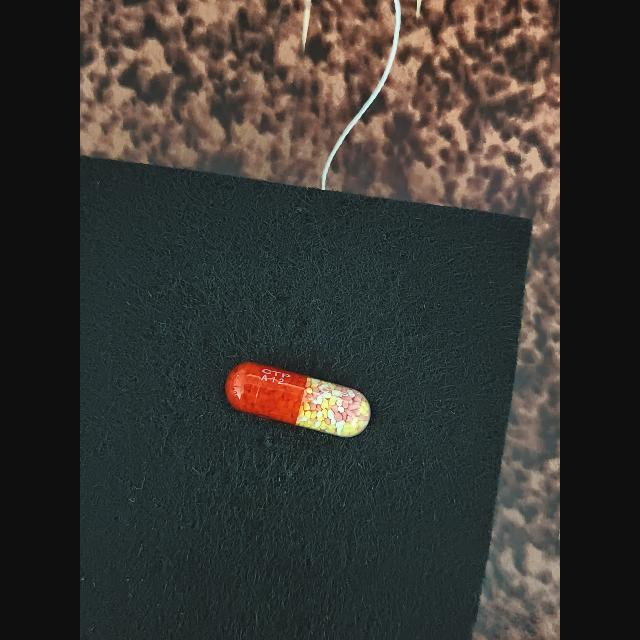Intact Capsule: (225, 362, 371, 437)
